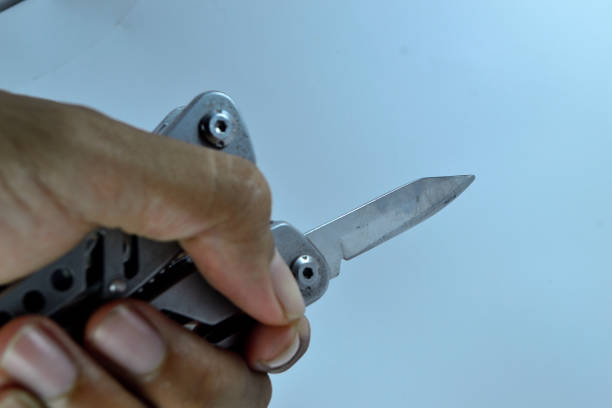knife: (149, 172, 478, 346)
